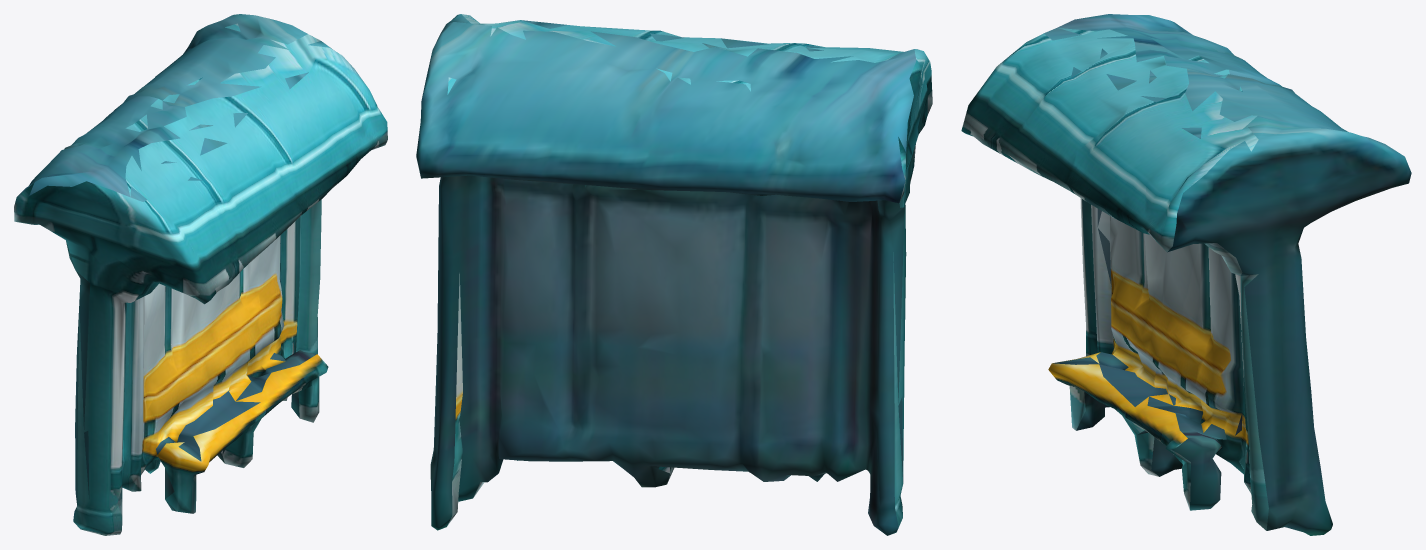
The model's file is shelter.glb.
The picture shows the model from 3 angles, left to right: view 1: azimuth 30°, elevation 25°; view 2: azimuth 150°, elevation 25°; view 3: azimuth 270°, elevation 25°; orthographic projection. The views are drawn at different scales.
Parts seen in each view (by area): view 1: shelter; view 2: shelter; view 3: shelter.
Part boxes in pixels (x1,y1,x2,y2): shelter: (14,14,387,535); shelter: (416,14,932,535); shelter: (961,14,1411,535).
Bounding box in the file's own units: 1 × 1 × 1.
Materials: 2 (2 with a texture image).
